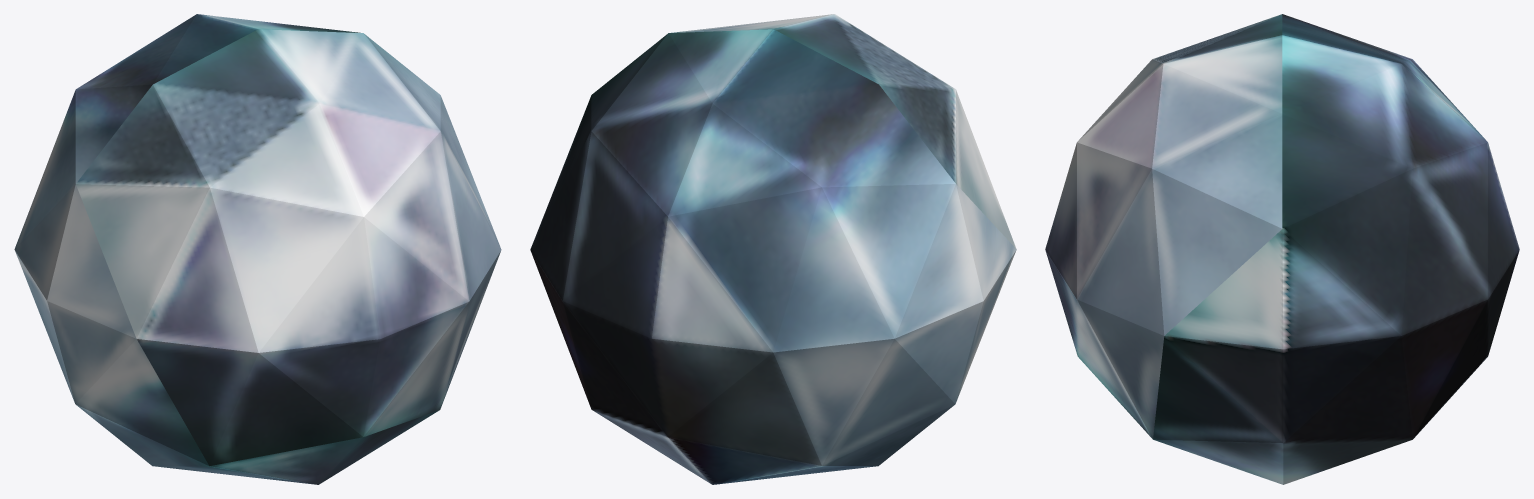
3 views of the same model, side by side, from view 1: azimuth 30°, elevation 25°; view 2: azimuth 150°, elevation 25°; view 3: azimuth 270°, elevation 25° (orthographic). The views are drawn at different scales.
Parts seen in each view (by area): view 1: ALC_Crystall_Ball; view 2: ALC_Crystall_Ball; view 3: ALC_Crystall_Ball.
Boxes of the visible parts, x1,y1,x2,y2 form: ALC_Crystall_Ball: (14,14,501,484); ALC_Crystall_Ball: (530,14,1016,484); ALC_Crystall_Ball: (1045,14,1519,484).
Size of the model in its own units: 42.2 by 42.2 by 42.36.
1 material, 1 textured.
